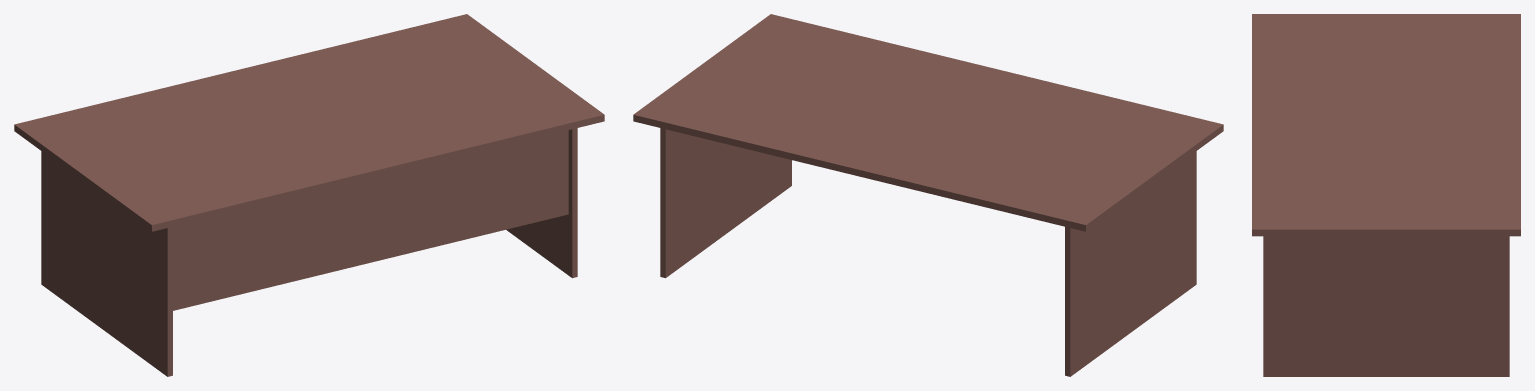
Rendered from meja.glb.
The picture shows the model from 3 angles, left to right: view 1: azimuth 30°, elevation 25°; view 2: azimuth 150°, elevation 25°; view 3: azimuth 270°, elevation 25°; orthographic projection. The views are drawn at different scales.
Parts seen in each view (by area): view 1: Cube, Cube.002, Cube.001; view 2: Cube, Cube.001; view 3: Cube, Cube.001.
Part boxes in pixels (x1=…): Cube: x1=14, y1=14, x2=604, y2=231; Cube.002: x1=173, y1=130, x2=568, y2=310; Cube.001: x1=41, y1=128, x2=577, y2=376; Cube: x1=633, y1=14, x2=1223, y2=231; Cube.001: x1=660, y1=128, x2=1196, y2=376; Cube: x1=1252, y1=14, x2=1520, y2=236; Cube.001: x1=1263, y1=236, x2=1509, y2=376.
Size of the model in its own units: 6.01 by 2.04 by 3.16.
